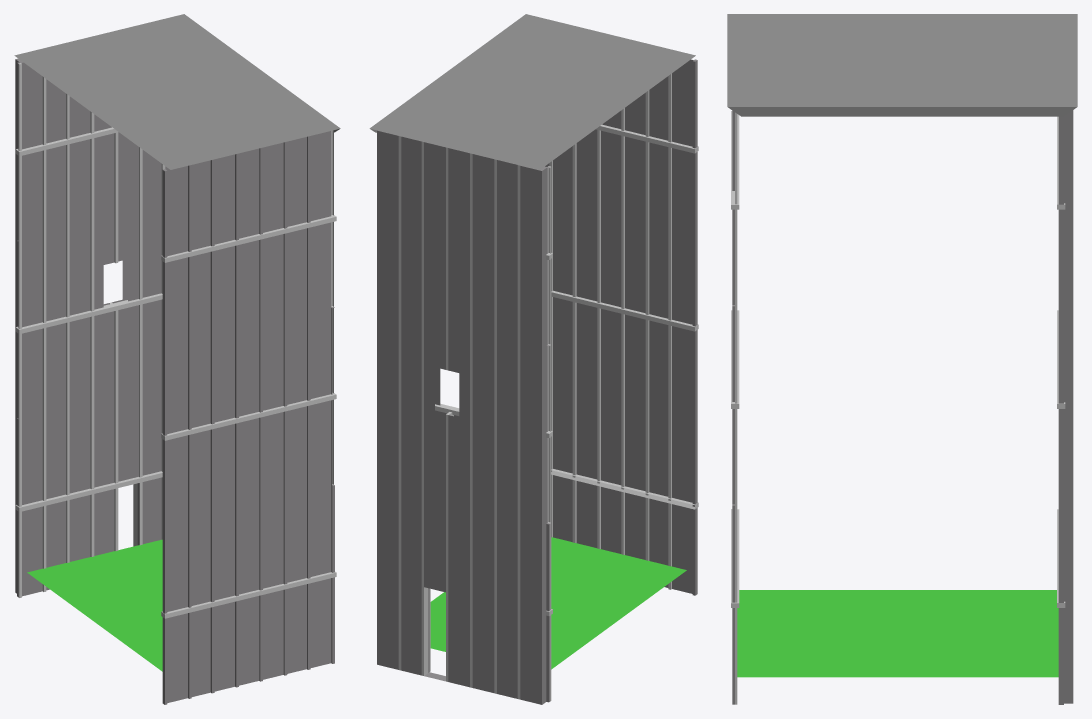
File: treeWalls_terra.fbx
The picture shows the model from 3 angles, left to right: view 1: azimuth 30°, elevation 25°; view 2: azimuth 150°, elevation 25°; view 3: azimuth 270°, elevation 25°; orthographic projection. The views are drawn at different scales.
Visible parts, largest first — view 1: wall.002, wall.004, Cube.005, wall.005, wall.003; view 2: wall.004, wall.002, Cube.005, wall.005, wall.003; view 3: Cube.005, wall.004, wall.003, wall.002, wall.005.
Boxes of the visible parts, x1,y1,x2,y2 form: wall.002: (162,131,334,704); wall.004: (15,58,168,596); Cube.005: (14,14,340,671); wall.005: (15,63,165,597); wall.003: (161,130,336,618); wall.004: (377,130,550,704); wall.002: (545,59,697,595); Cube.005: (369,14,695,669); wall.005: (398,136,552,701); wall.003: (549,73,698,589); Cube.005: (727,14,1077,677); wall.004: (1058,110,1073,704); wall.003: (731,111,739,704); wall.002: (732,110,734,704); wall.005: (1057,116,1065,607).
Bounding box in the file's own units: 3312 × 9729 × 5152.
